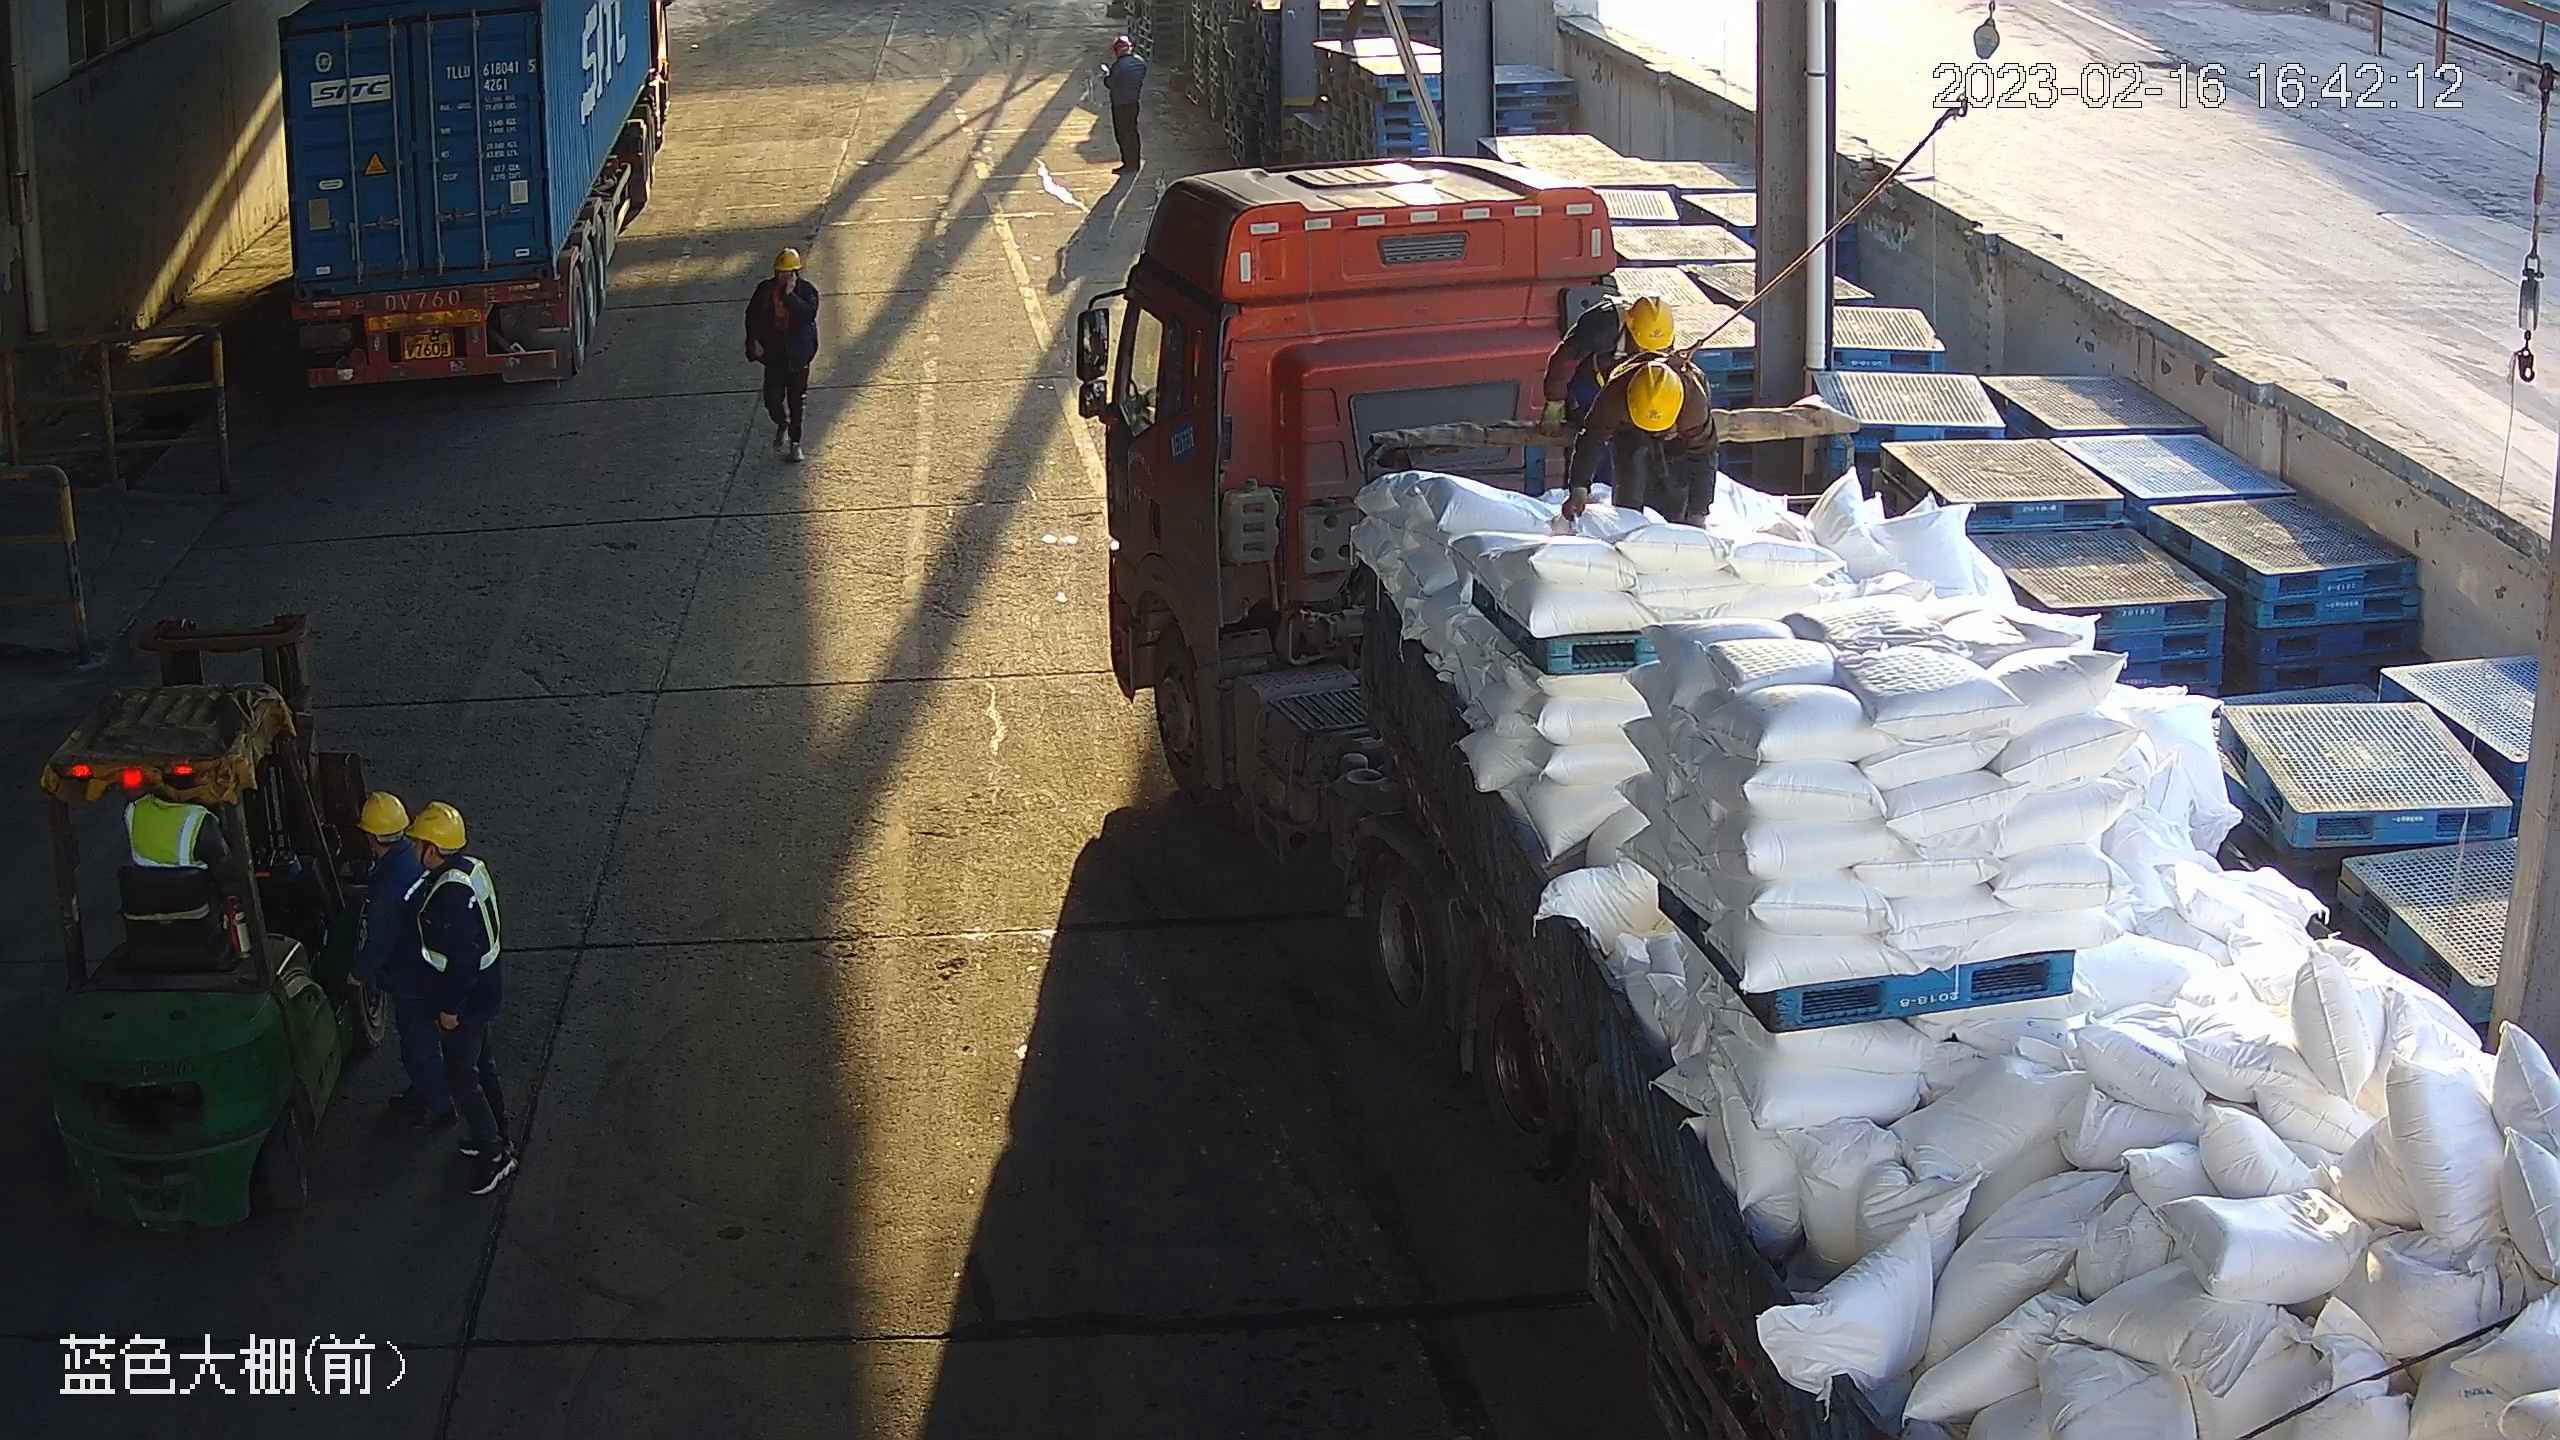head: (1597, 358, 1713, 457), (409, 802, 494, 927), (338, 793, 420, 906), (1588, 292, 1678, 356), (741, 245, 820, 311)
helmet: (1629, 364, 1682, 434), (412, 802, 466, 852), (1626, 297, 1675, 349), (354, 794, 410, 834), (771, 244, 809, 271), (1112, 37, 1130, 52)
people: (407, 802, 522, 1198), (339, 793, 452, 1135), (1559, 350, 1717, 528), (1541, 296, 1677, 493), (743, 246, 820, 462), (1101, 28, 1149, 177)
truck: (1065, 146, 2560, 1440), (270, 1, 674, 393)
